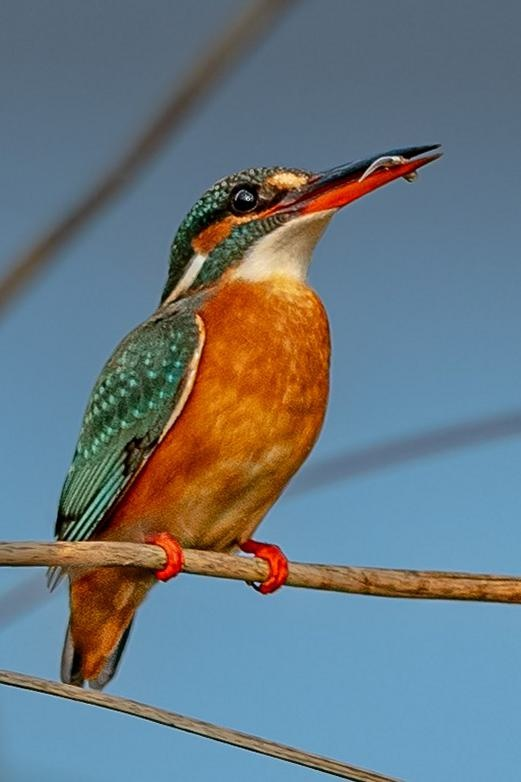kingfisher: (97, 136, 451, 637)
